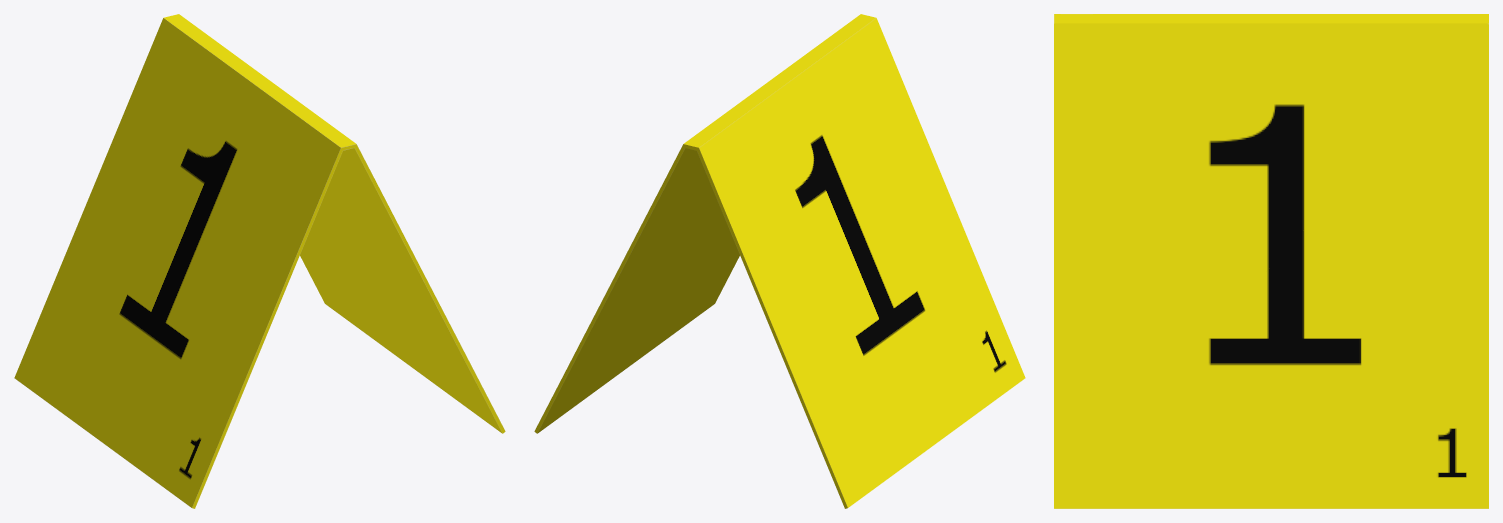
File: Evidence_Cone.obj
3 views of the same model, side by side, from view 1: azimuth 30°, elevation 25°; view 2: azimuth 150°, elevation 25°; view 3: azimuth 270°, elevation 25° (orthographic). The views are drawn at different scales.
Visible parts, largest first — view 1: pCube1; view 2: pCube1; view 3: pCube1.
Part boxes in pixels (x1,y1,x2,y2): pCube1: (14, 14, 505, 508); pCube1: (534, 14, 1025, 508); pCube1: (1054, 14, 1488, 508).
Bounding box in the file's own units: 1.02 × 1.01 × 1.
